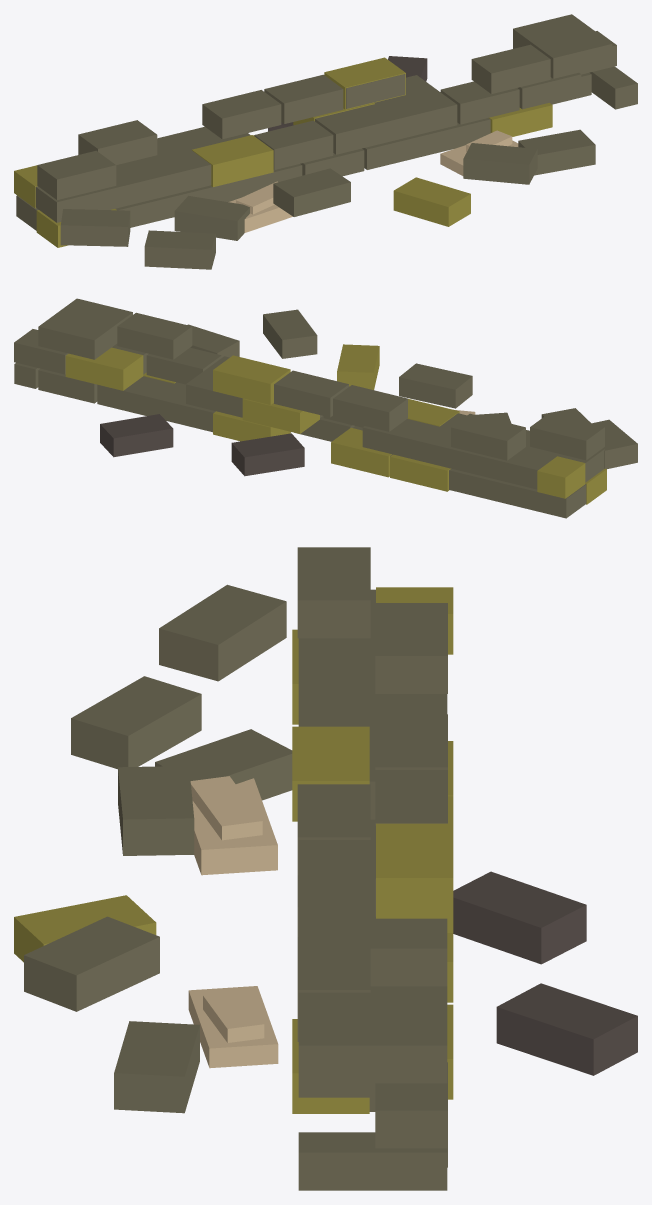
File: SM_MuroSacos_v2_Irregular_e2_MuyDanado_LOD1.fbx
3 views of the same model, one above another, from view 1: azimuth 30°, elevation 25°; view 2: azimuth 150°, elevation 25°; view 3: azimuth 270°, elevation 25° (orthographic). The views are drawn at different scales.
Parts seen in each view (by area): view 1: SM_bloques.muro_sacos_estados_v10_LOD1; view 2: SM_bloques.muro_sacos_estados_v10_LOD1; view 3: SM_bloques.muro_sacos_estados_v10_LOD1.
Part boxes in pixels (bbox=[...]): SM_bloques.muro_sacos_estados_v10_LOD1: bbox=[14, 14, 637, 269]; SM_bloques.muro_sacos_estados_v10_LOD1: bbox=[14, 298, 637, 518]; SM_bloques.muro_sacos_estados_v10_LOD1: bbox=[14, 547, 637, 1190].
Bounding box in the file's own units: 8.17 × 0.895 × 4.03.
